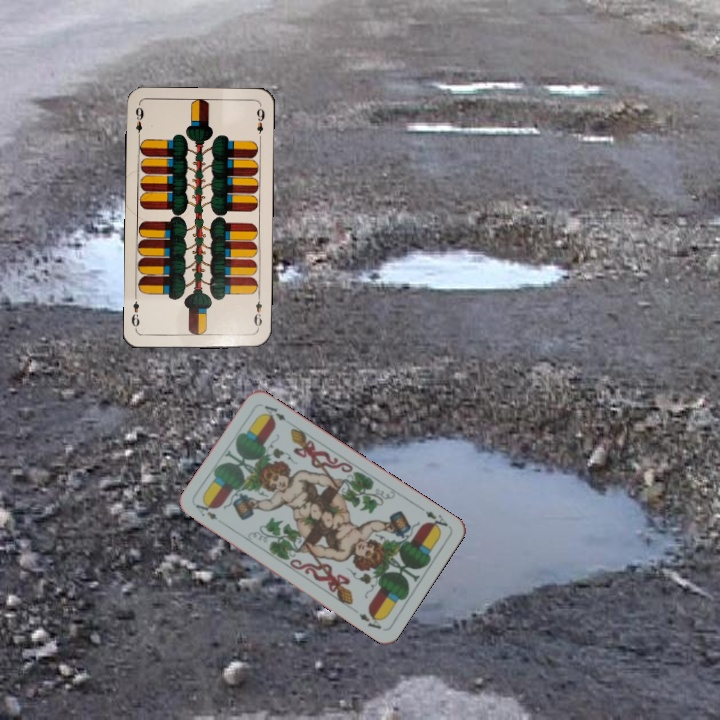E9: (250, 292, 265, 332), (131, 103, 146, 142)
EA: (421, 506, 451, 533), (191, 499, 220, 523)
